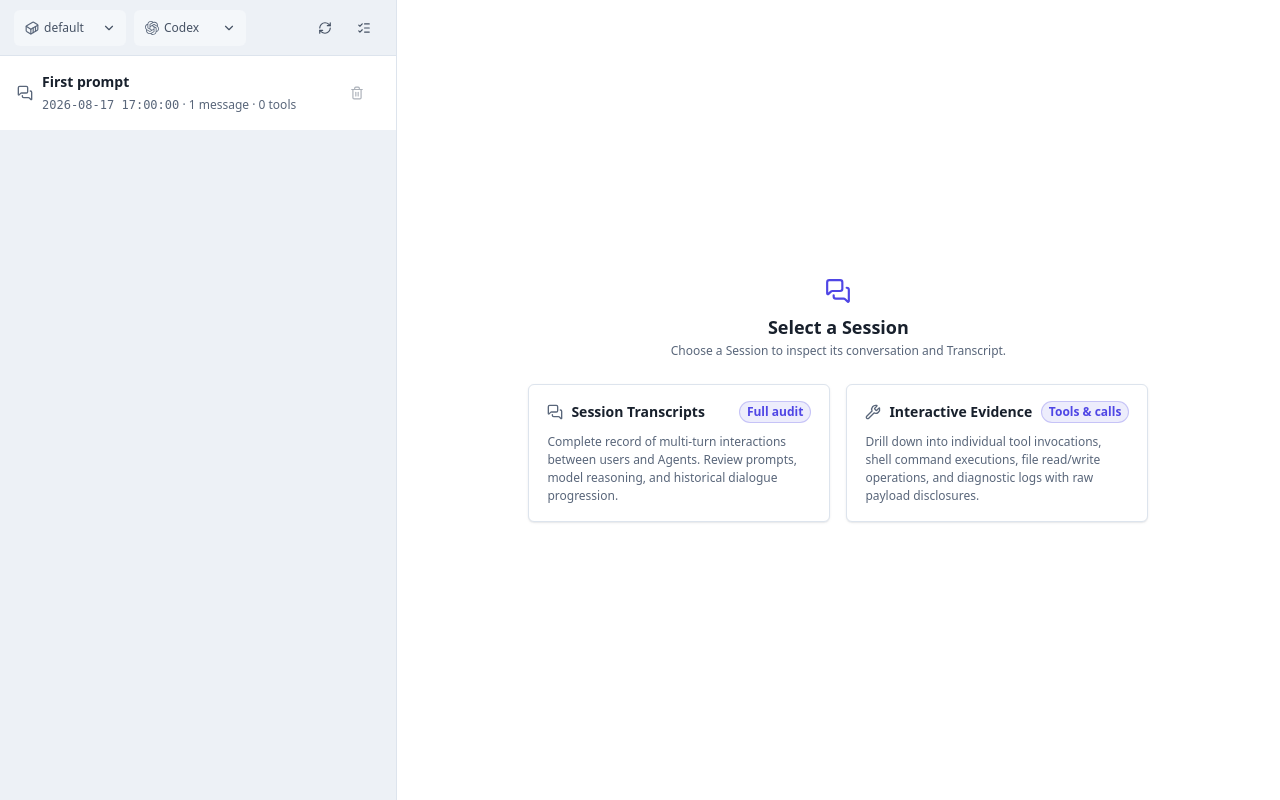
Test: SessionPage › reconciles a refreshed catalog with the open detail without restarting its stream
Click the button "First prompt". click: (86, 82)
box: [17,72,335,114]
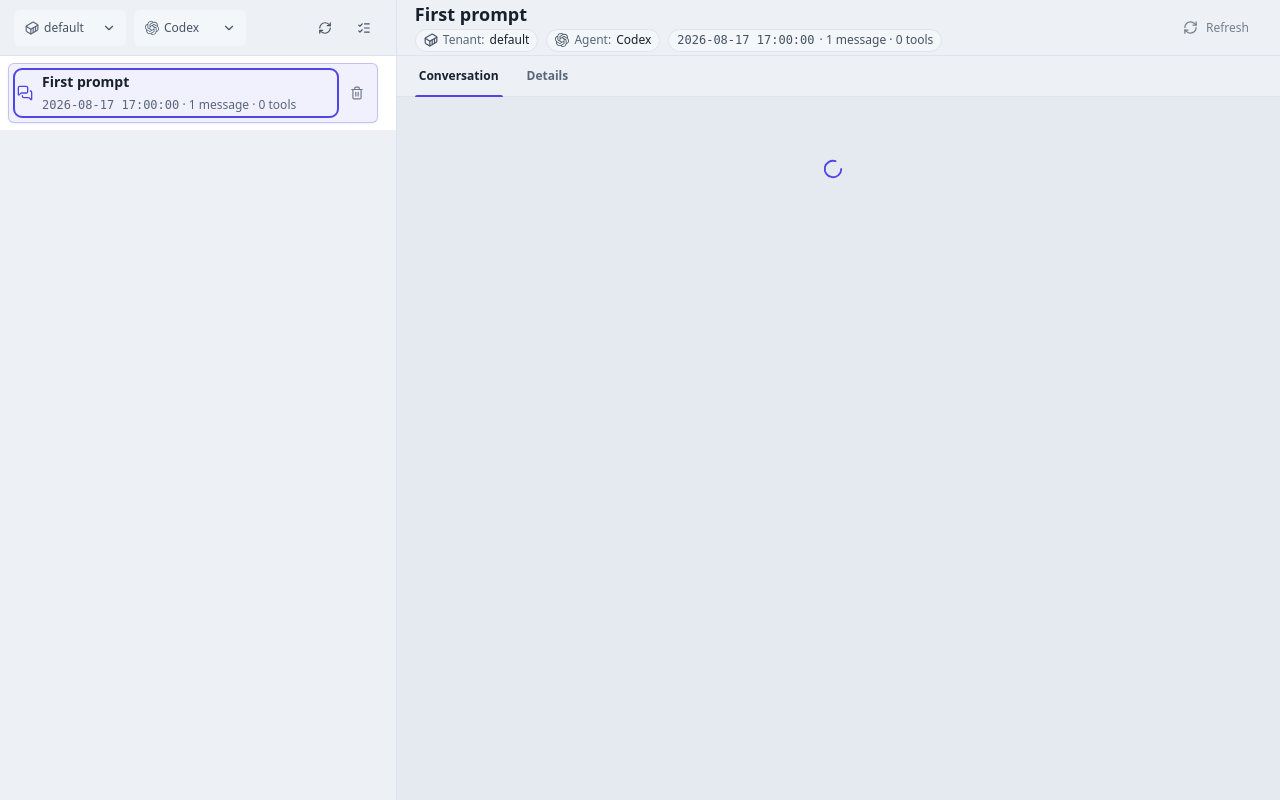
Click the button named "Refresh Sessions". click: (325, 28)
box: [307,10,343,46]
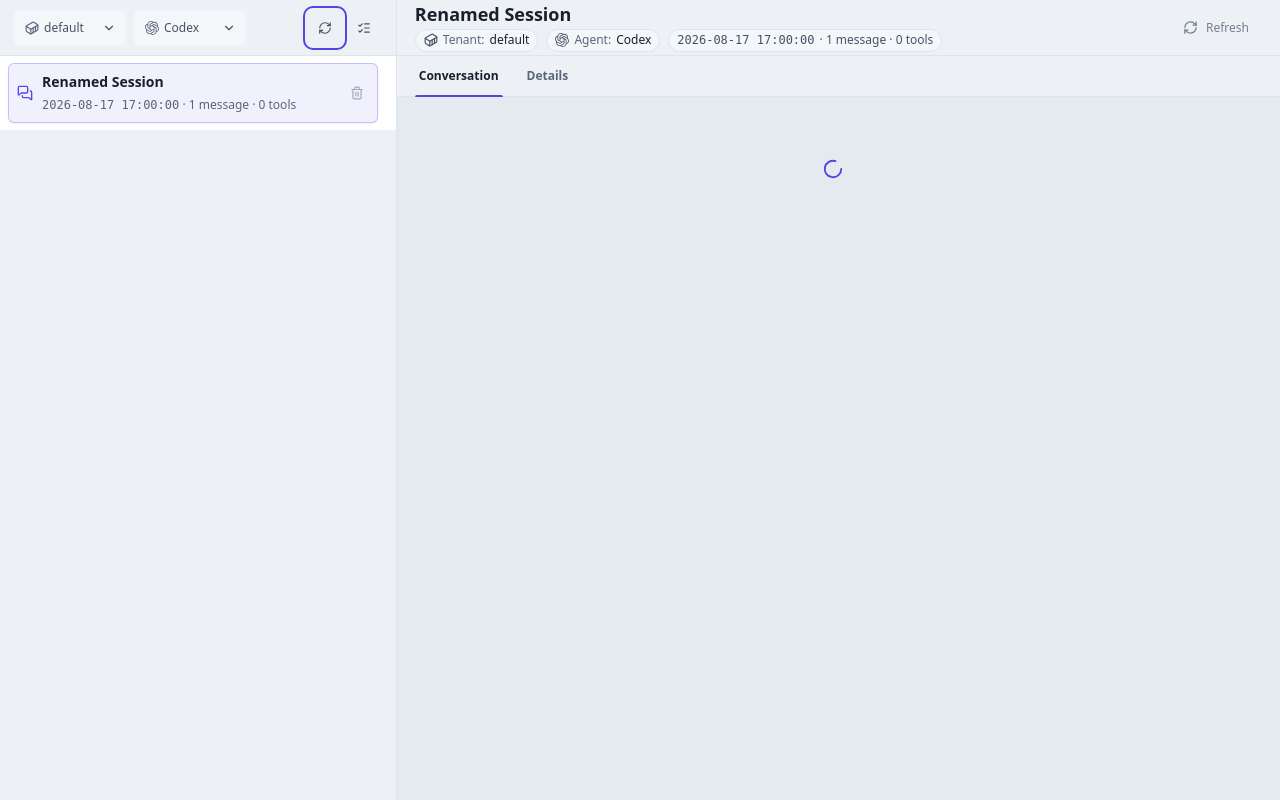
Expected: the heading "Renamed Session" is shown, [415,2,571,26]
Click the button named "Refresh Sessions". click: (325, 28)
box: [307,10,343,46]
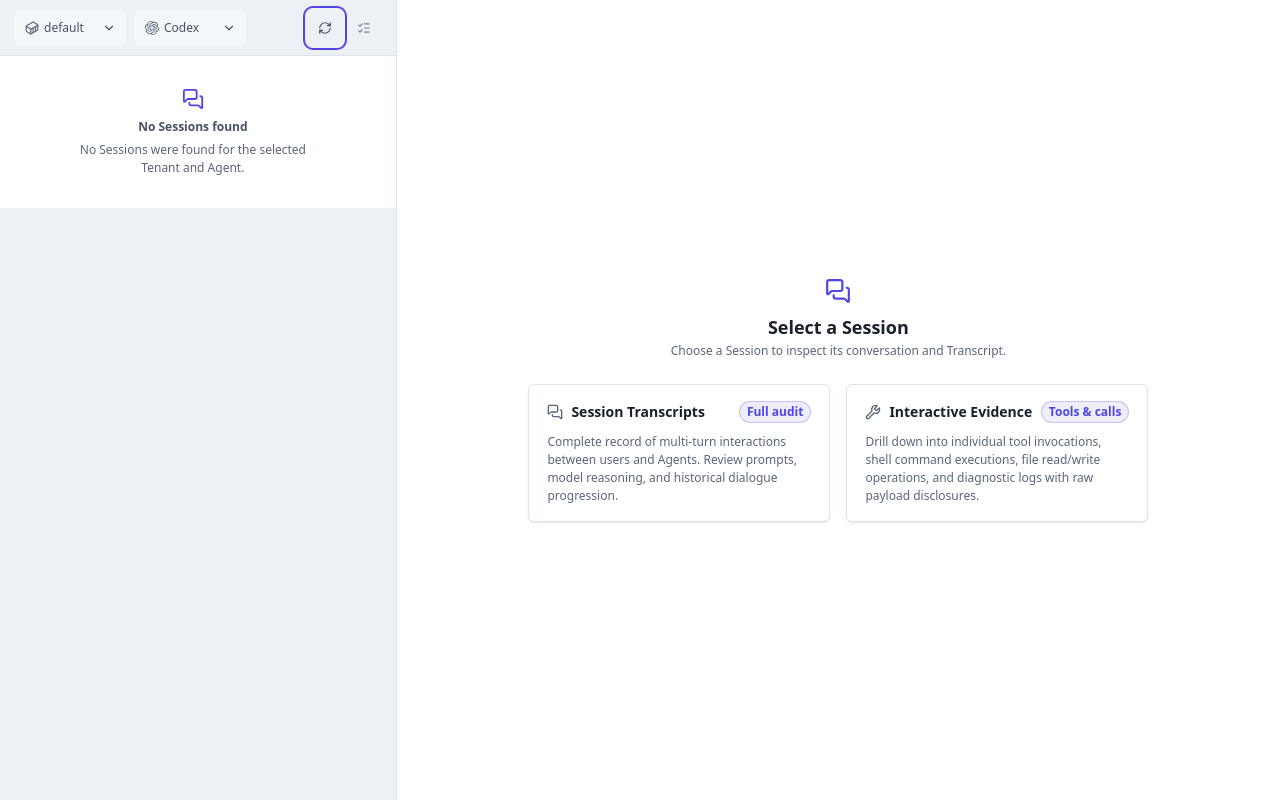
Expected: the heading "Select a Session" is shown, [768,316,909,338]
